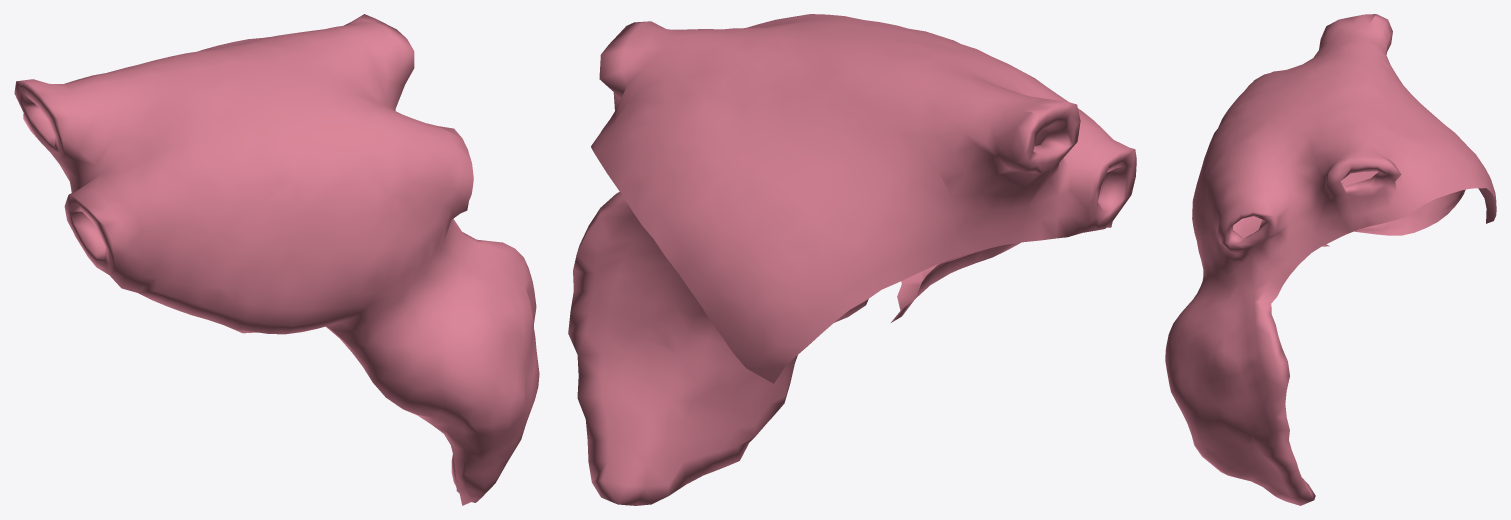
3 renders of one model, left to right at view 1: azimuth 30°, elevation 25°; view 2: azimuth 150°, elevation 25°; view 3: azimuth 270°, elevation 25°, orthographic. The views are drawn at different scales.
Parts seen in each view (by area): view 1: 左心房; view 2: 左心房; view 3: 左心房.
Boxes of the visible parts, x1,y1,x2,y2 form: 左心房: [14, 14, 539, 505]; 左心房: [568, 14, 1136, 505]; 左心房: [1165, 14, 1496, 505].
Bounding box in the file's own units: 0.1317 × 0.1272 × 0.1108.
